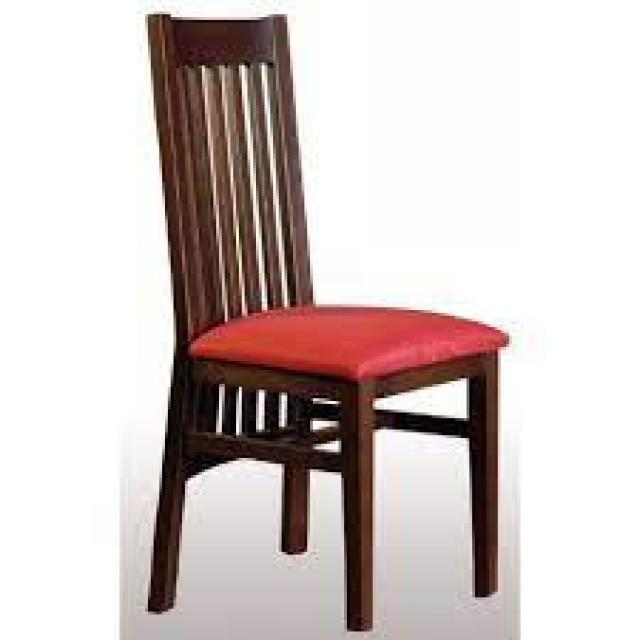bottle: (145, 3, 511, 628)
